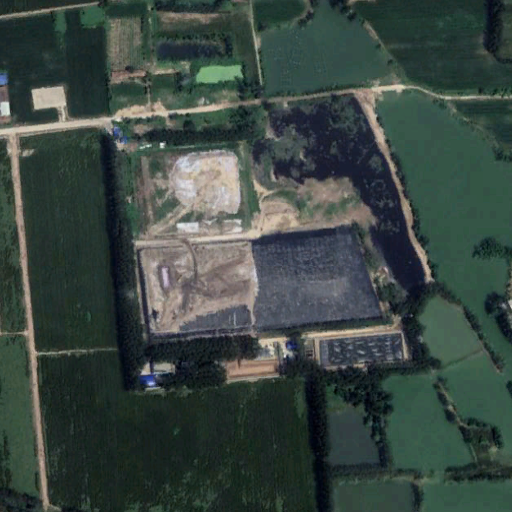lf: (133, 148, 391, 337)
